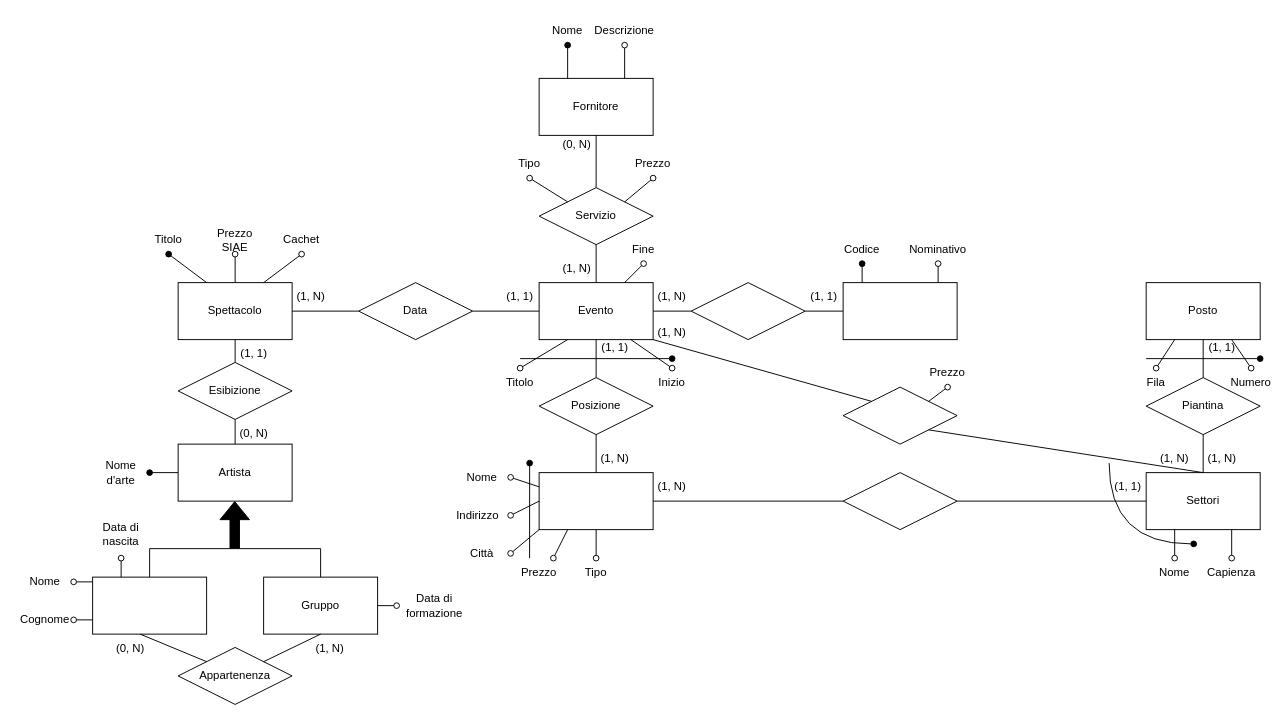
This 1287x721 diagram has some shape labels left out. The centre of each missing label's shape, as x and y in pixels:
"Biglietto" goes at (899,311).
"Costo" goes at (899,415).
"Divisione" goes at (899,501).
"Luogo" goes at (595,501).
"Persona" goes at (149,605).
"Vendita" goes at (747,311).
